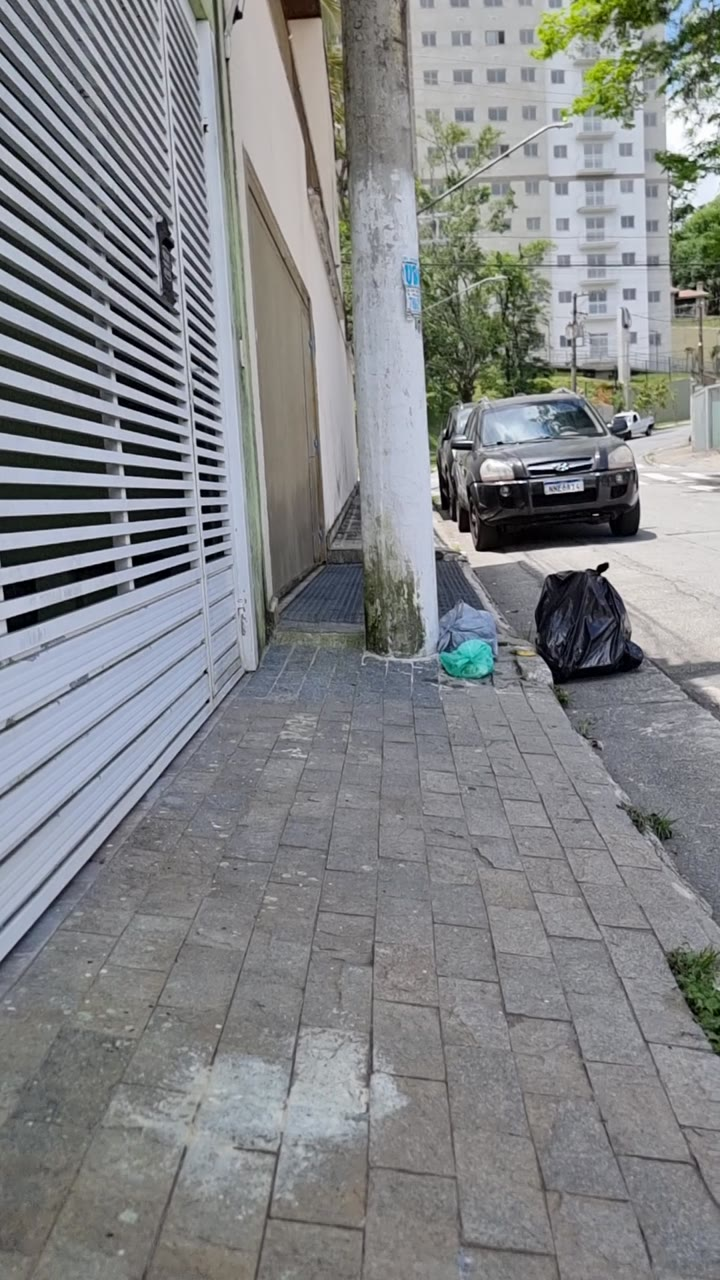obstaculo: (346, 0, 432, 627), (535, 563, 643, 682), (432, 589, 497, 678)
